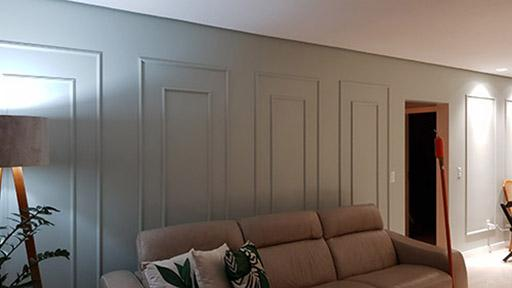Detector_Tensao_Contato: (431, 128, 444, 160)
Vara_Manobra: (438, 159, 456, 288)
